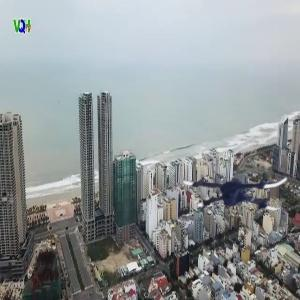drone: (186, 131, 291, 236)
